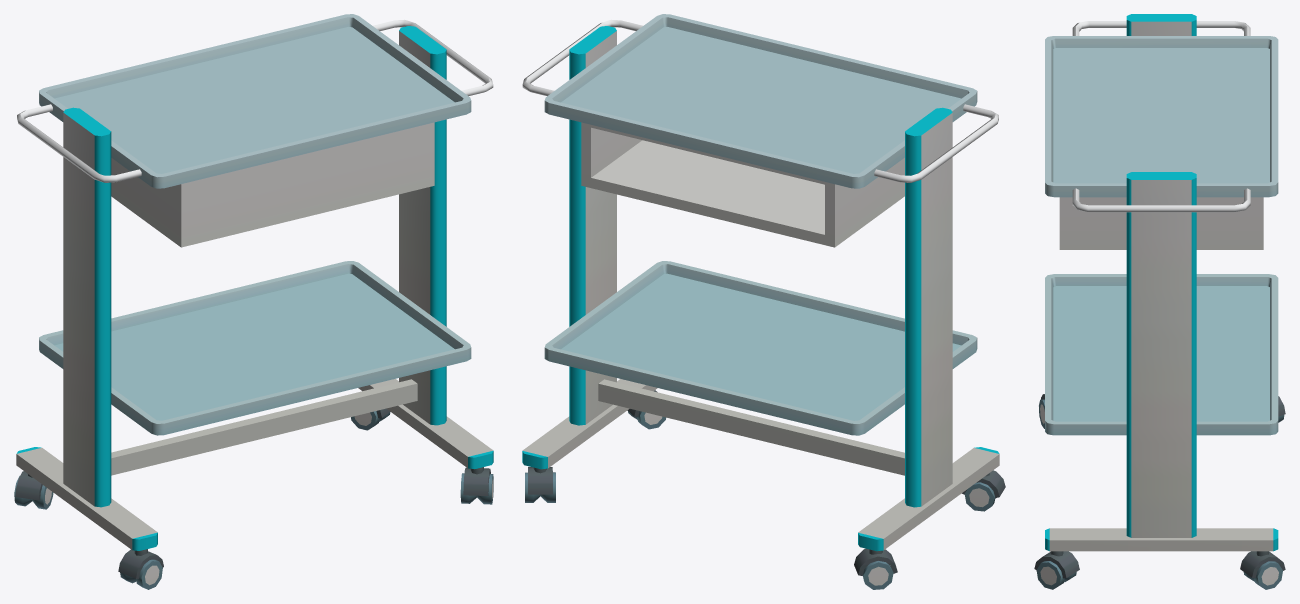
Rendered from Utility_Cart.fbx.
3 views of the same model, side by side, from view 1: azimuth 30°, elevation 25°; view 2: azimuth 150°, elevation 25°; view 3: azimuth 270°, elevation 25° (orthographic). The views are drawn at different scales.
Parts seen in each view (by area): view 1: Color, Metal; view 2: Color, Metal; view 3: Color, Metal.
Part boxes in pixels (x1,y1,x2,y2): Color: (14, 14, 493, 589); Metal: (17, 19, 493, 182); Color: (522, 14, 1005, 589); Metal: (522, 19, 998, 182); Color: (1034, 14, 1285, 589); Metal: (1072, 21, 1250, 212).
Size of the model in its own units: 0.7504 by 0.7617 by 0.4259.
Materials: 2 (2 with a texture image).
